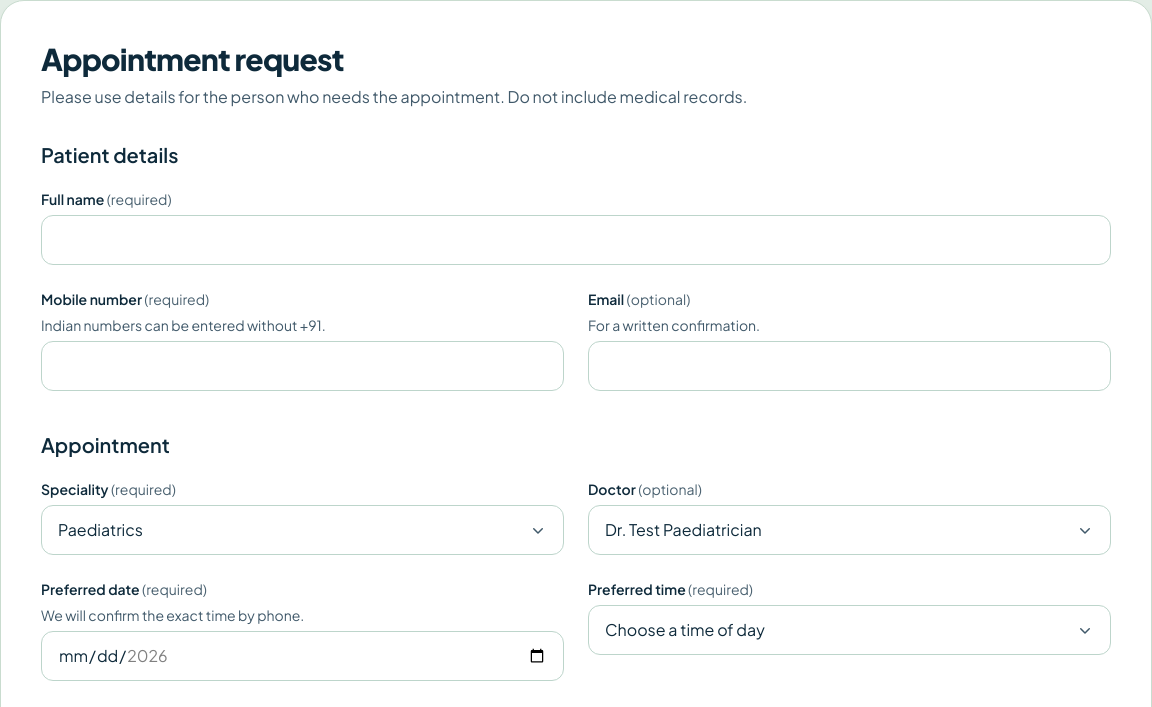
it: AppointmentForm › narrows doctors to the chosen speciality and clears a mismatched doctor
expect the dropdown labelled "Doctor (optional)" shows "Dr. Test Paediatrician": met, box top-left (588, 505), bottom-right (1111, 555)
Select "Cardiology" in the dropdown labelled "Speciality (required)": (302,530) top-left (41, 505), bottom-right (564, 555)
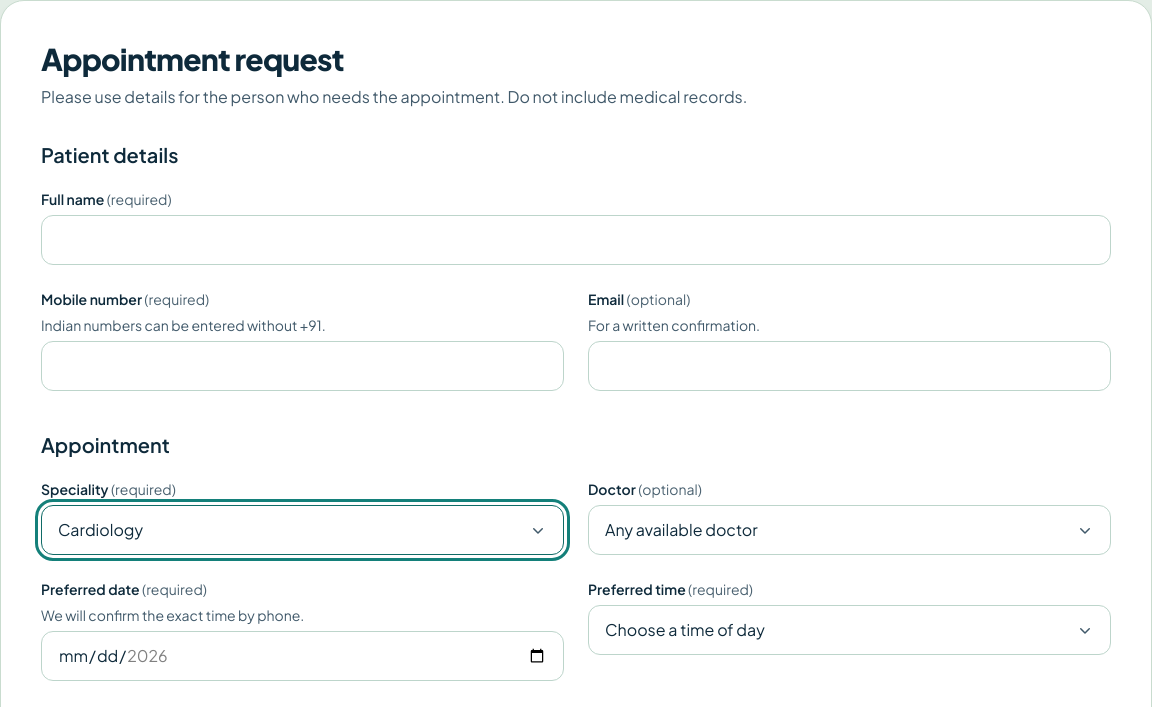
expect the option "paediatrician" is not shown: met
expect the dropdown labelled "Doctor (optional)" shows "Any available doctor": met, box top-left (588, 505), bottom-right (1111, 555)
